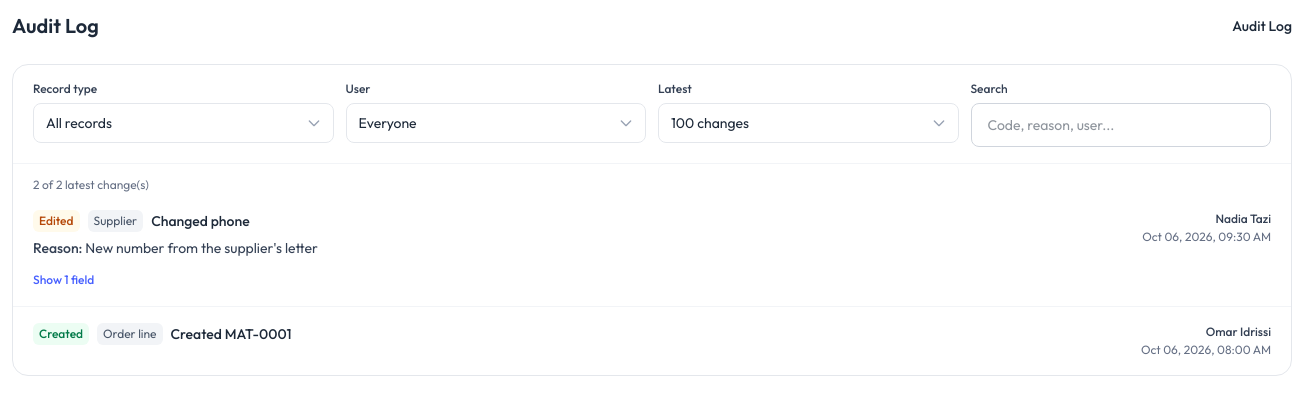
Scenario: audit log page › rule: the record type is filtered by the server, the user and the search text on the page
This screenshot has width=1304, height=393.
Check: the link "Changed phone" is shown, box 151,211 -> 250,231
Select "Supplier" in the dropdown labelled "Record type" at [183, 123], box 33,103 -> 334,143
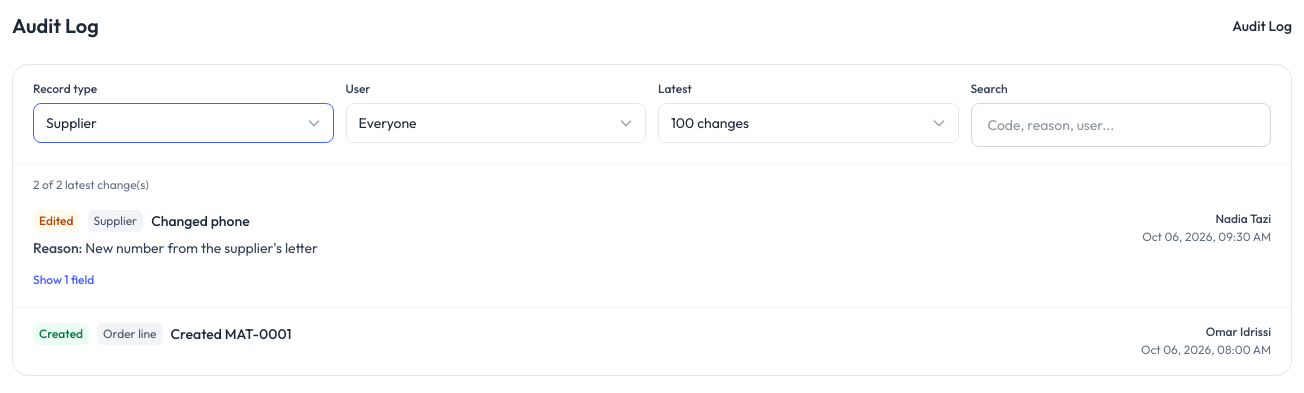
Select "Omar Idrissi" in the dropdown labelled "User" at [496, 123], box 346,103 -> 646,143
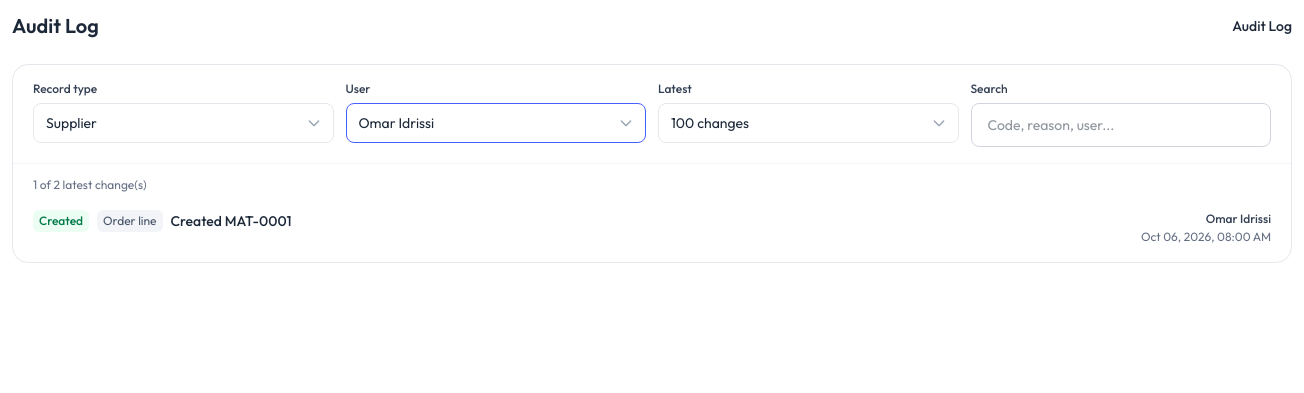
Check: the link "Created MAT-0001" is shown, box 170,211 -> 292,231
Check: the link "Changed phone" is gone
Select "Everyone" in the dropdown labelled "User" at [496, 123], box 346,103 -> 646,143
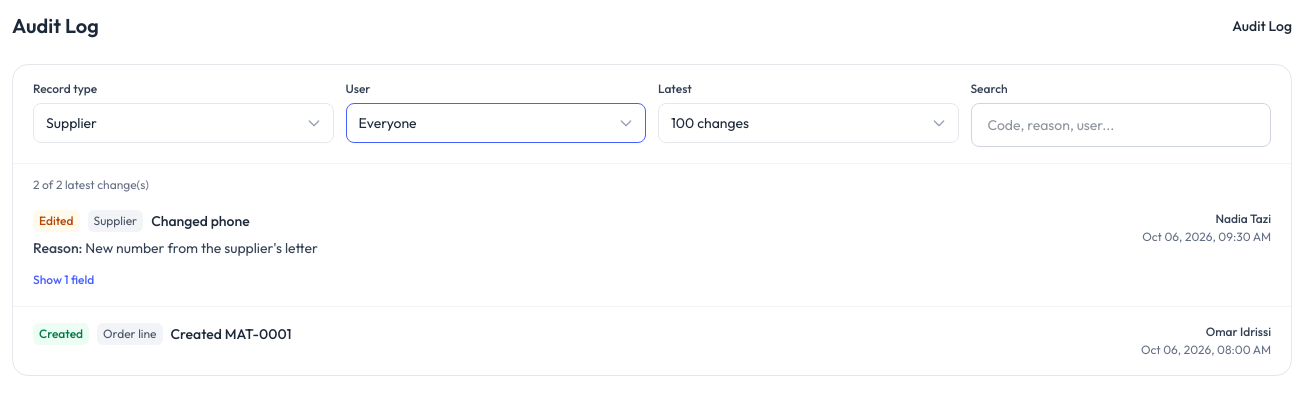
Type "letter" into the field labelled "Search" at [1121, 125], box 970,103 -> 1271,147
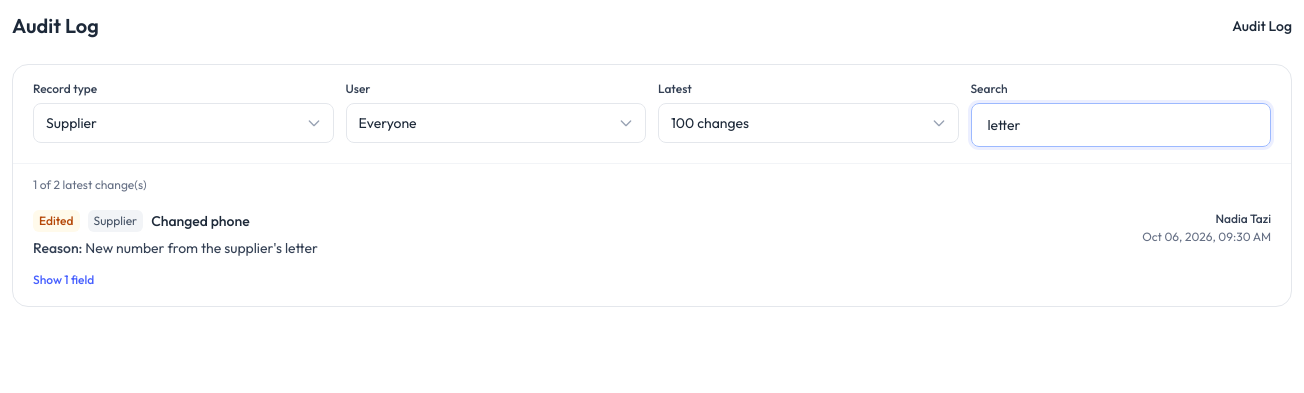
Check: the link "Changed phone" is shown, box 151,211 -> 250,231
Check: the link "Created MAT-0001" is gone
